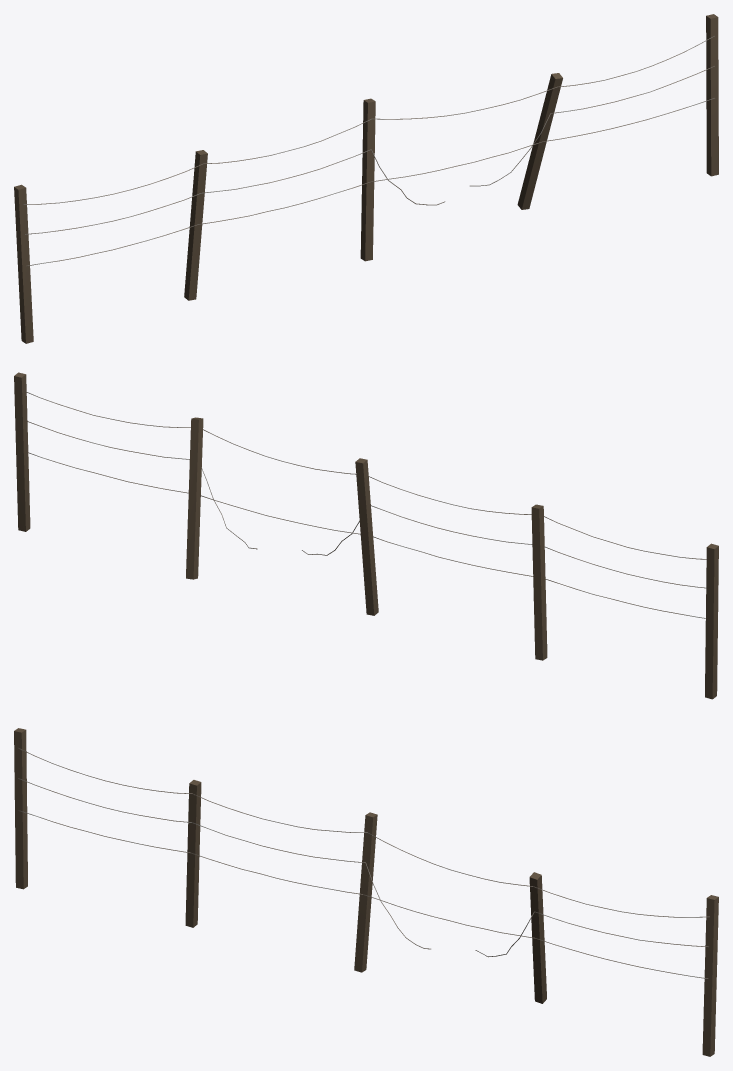
File: pike_fence_8m.glb
3 renders of one model, top to bottom at view 1: azimuth 30°, elevation 25°; view 2: azimuth 150°, elevation 25°; view 3: azimuth 330°, elevation 25°, orthographic.
Parts seen in each view (by area): view 1: pike_fence_8m_posts_LOD0, pike_fence_8m_wire_LOD0; view 2: pike_fence_8m_posts_LOD0, pike_fence_8m_wire_LOD0; view 3: pike_fence_8m_posts_LOD0, pike_fence_8m_wire_LOD0.
Part boxes in pixels (x1,y1,x2,y2): pike_fence_8m_posts_LOD0: [14, 14, 718, 343]; pike_fence_8m_wire_LOD0: [23, 36, 714, 266]; pike_fence_8m_posts_LOD0: [14, 372, 718, 699]; pike_fence_8m_wire_LOD0: [26, 392, 706, 618]; pike_fence_8m_posts_LOD0: [14, 728, 718, 1056]; pike_fence_8m_wire_LOD0: [18, 748, 709, 978].
Size of what is drawn, in the model's own units: 8.13 by 1.73 by 0.4822.
